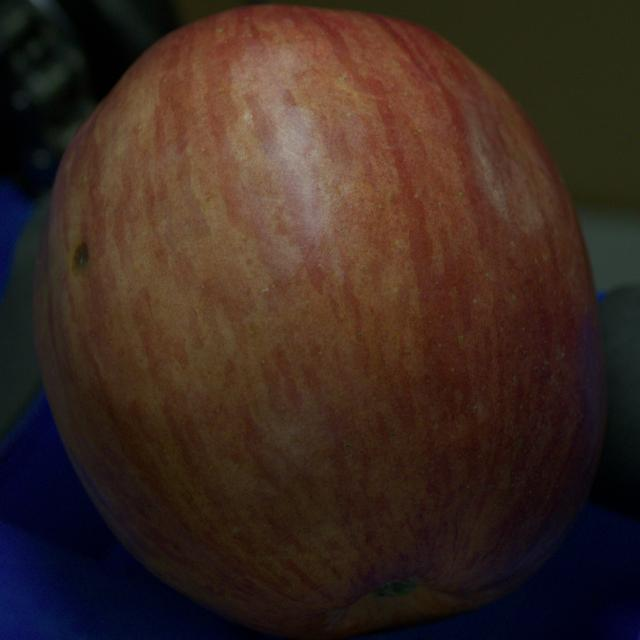apple: (34, 6, 606, 639)
pest: (73, 243, 88, 272)
